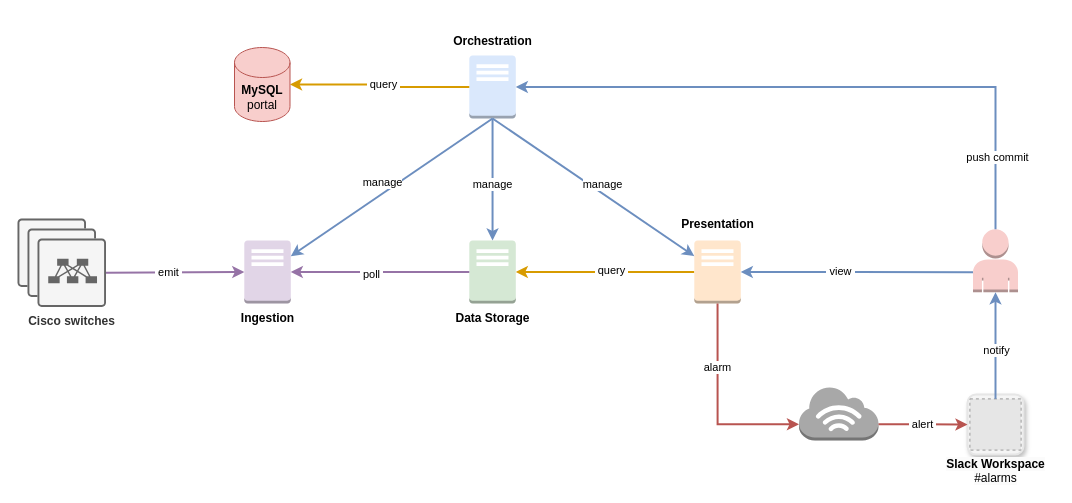
This 1072x503 diagram has some shape labels left out. Grey dashed boxes stand in for pictures. The centre of each missing label's shape, as x and y in pixels:
admin: the point at 995,260
WAN: the point at 838,413
